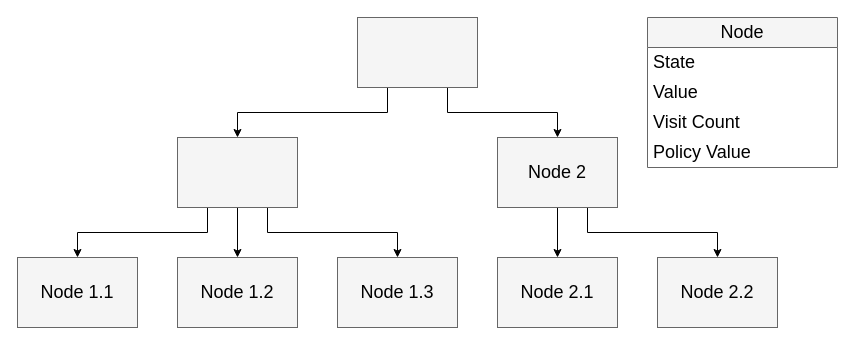
This 855x345 diagram has some shape labels left out. The centre of each missing label's shape, as x and y in pixels:
"Node 1" goes at pixel 237 172.
"Root" goes at pixel 417 52.
